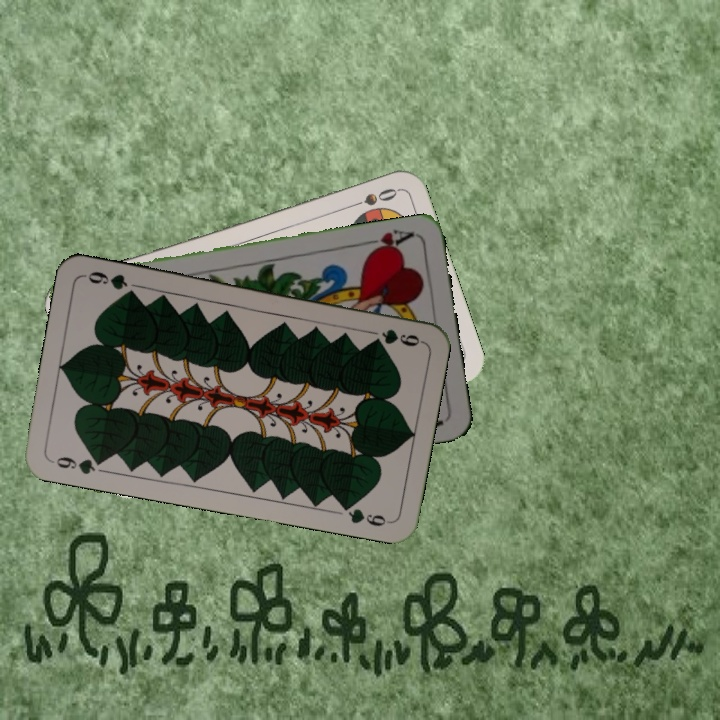G9: (47, 452, 108, 477), (366, 325, 424, 349)
HA: (358, 225, 417, 257)
SO: (343, 184, 400, 212)
